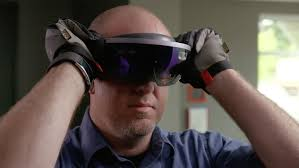hololens: (85, 33, 192, 90)
